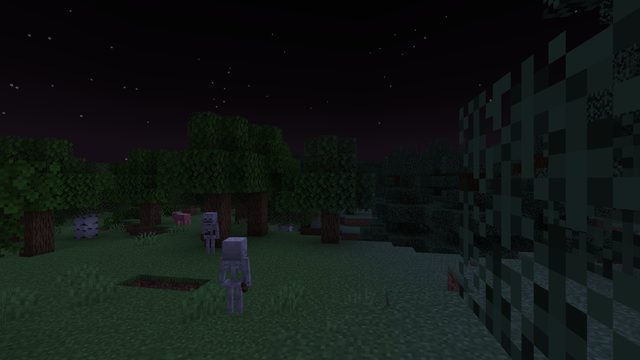cochons: (173, 212, 190, 225)
squelettes: (218, 236, 249, 318), (200, 212, 218, 255)
